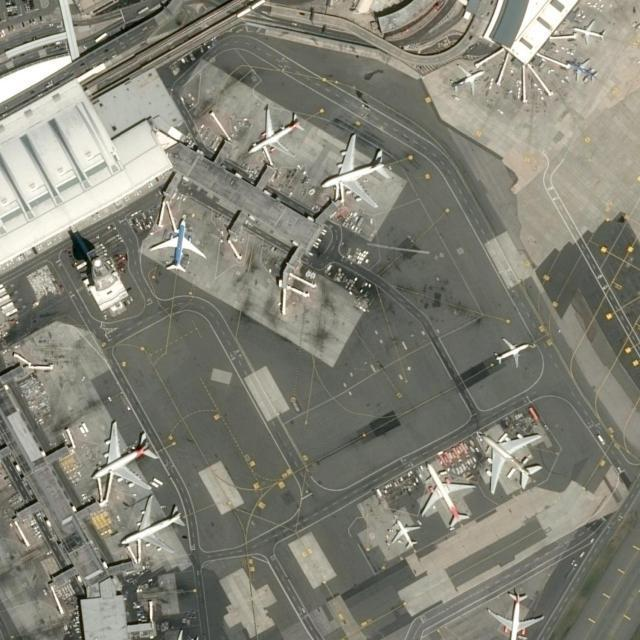Aircraft: (320, 129, 392, 208), (87, 417, 161, 491), (476, 425, 546, 495), (118, 490, 188, 556), (415, 460, 475, 530), (147, 214, 207, 274), (245, 103, 305, 160), (479, 590, 547, 640), (384, 512, 422, 550), (492, 333, 530, 368), (451, 59, 485, 95), (564, 54, 598, 83), (569, 18, 605, 42), (153, 624, 202, 640)
